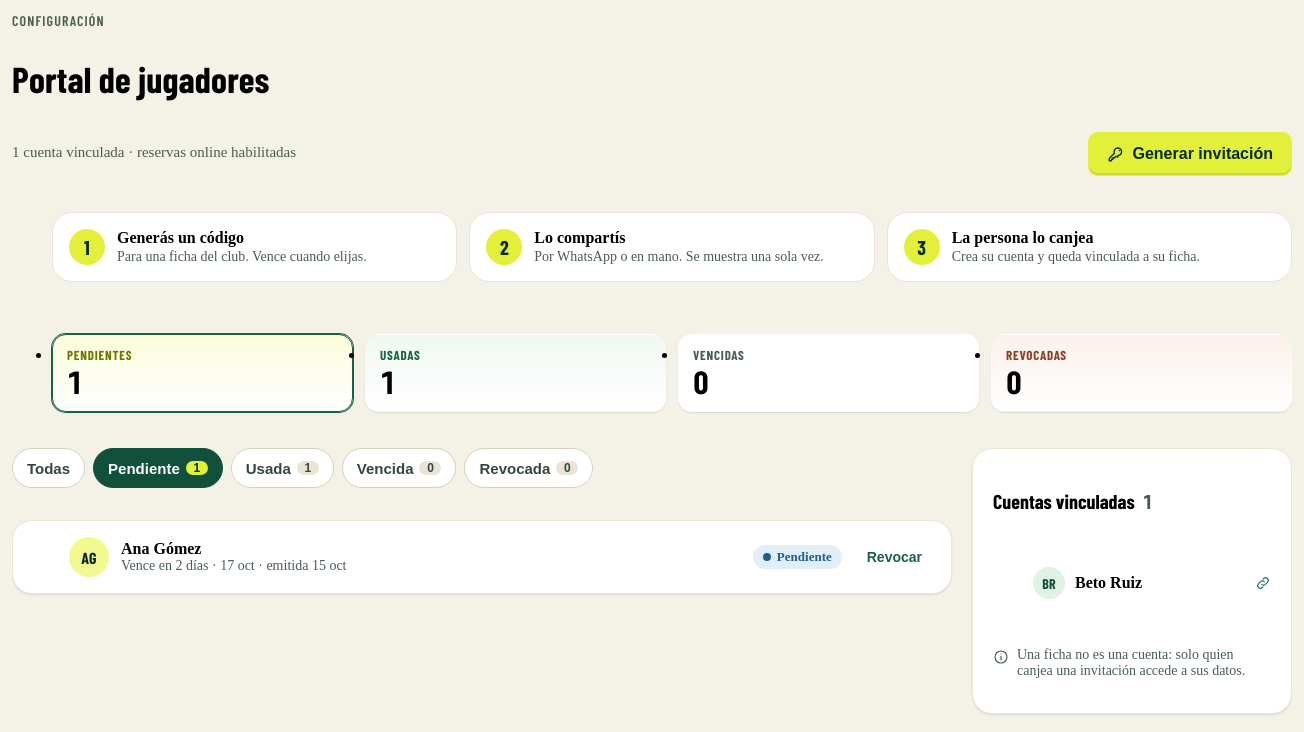
Test: PlayerAccessPanel · invitaciones › lista las invitaciones por estado y las cuentas vinculadas
Expected: the text "Vence en 2 días · 17 oct · emitida 15 oct" is shown, top-left (121, 558), bottom-right (346, 573)
Expected: the text "1 cuenta vinculada · reservas online habilitadas" is shown, top-left (12, 144), bottom-right (296, 162)
Click the button "Usadas 1".
click(400, 355)  # box top-left (365, 334), bottom-right (666, 412)
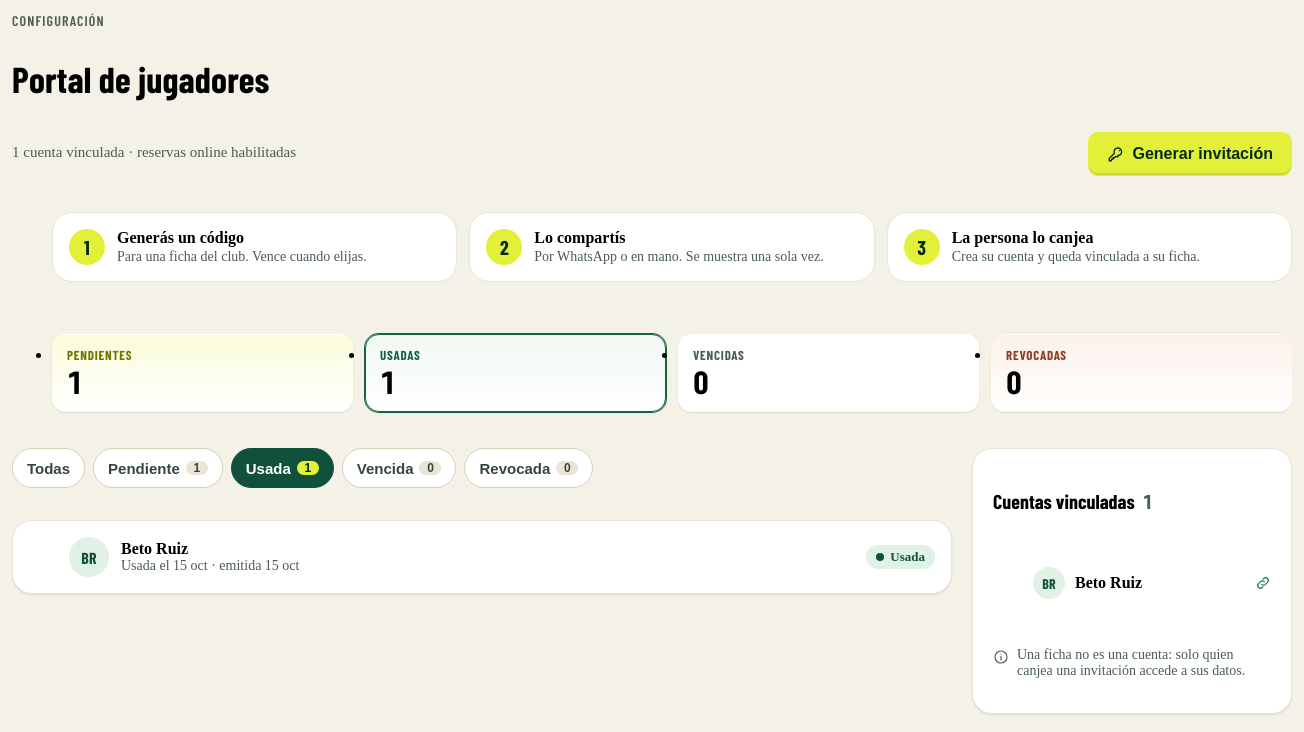
Result: the text "Usada el 15 oct · emitida 15 oct" is shown at top-left (121, 558), bottom-right (300, 573)
